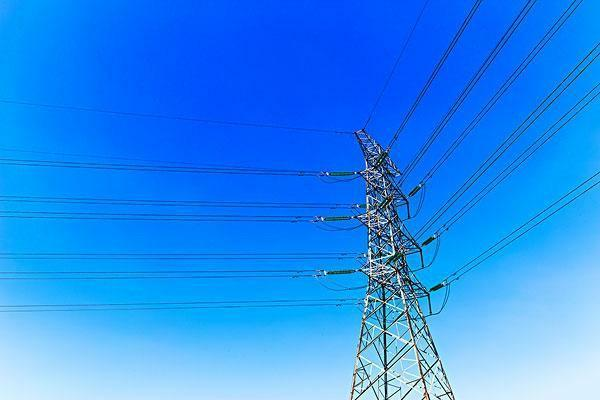power_tower: (343, 126, 458, 400)
